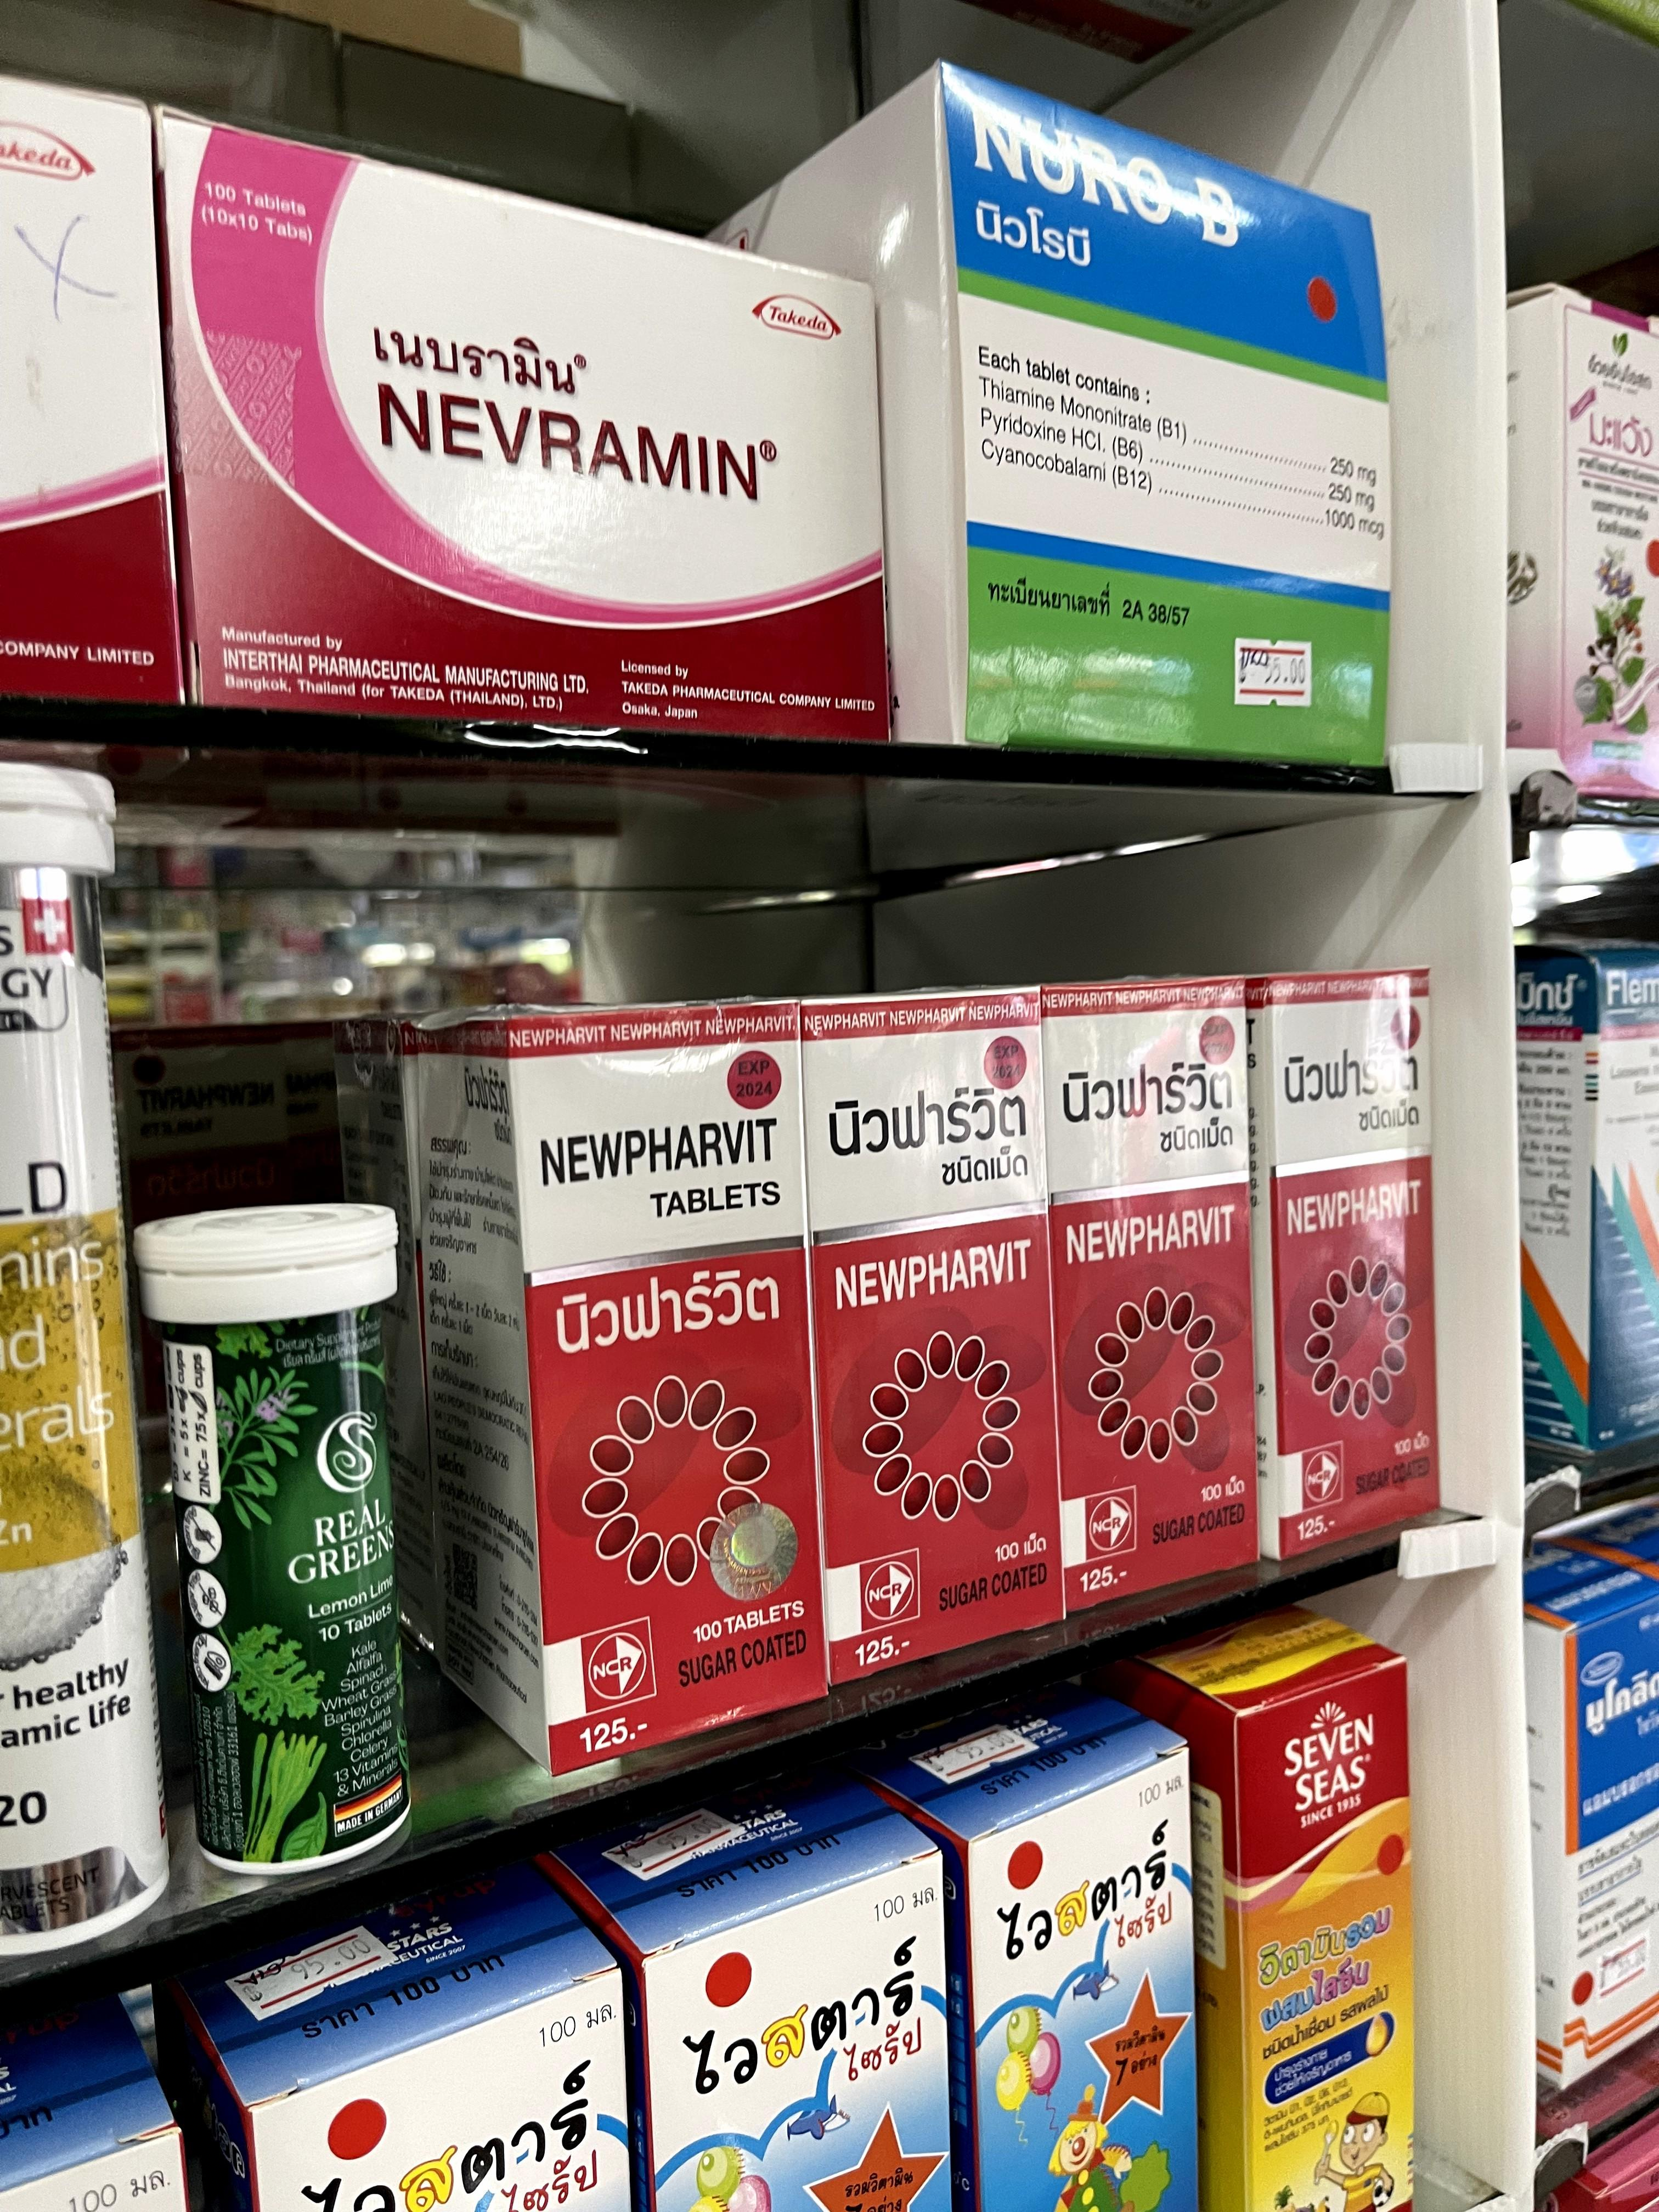Ma-Vaeng_Light: (1516, 291, 1659, 803)
Nevramin: (159, 106, 903, 745)
Newpharvit: (410, 1010, 835, 1764), (812, 991, 1061, 1681), (1042, 979, 1258, 1616), (1258, 965, 1448, 1561)
